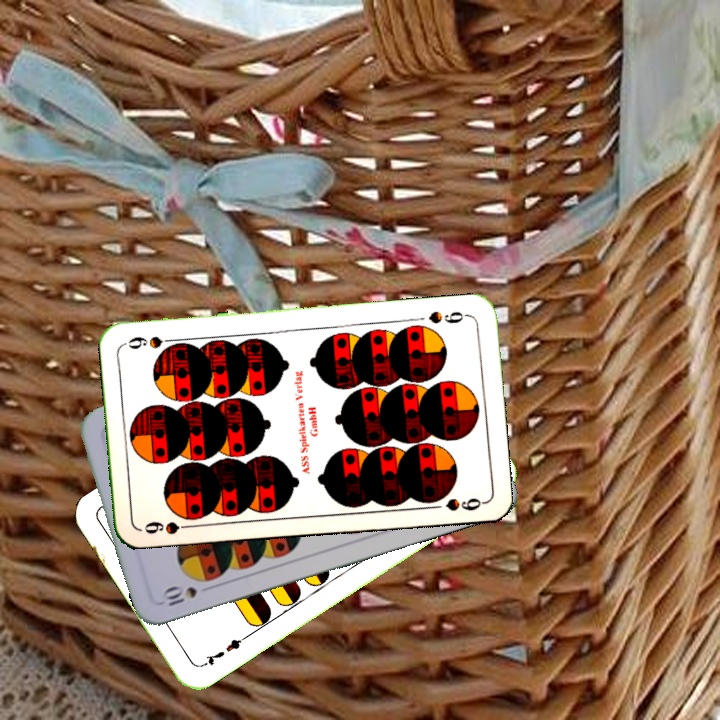E7: (197, 631, 250, 670)
S10: (158, 582, 200, 609)
S9: (138, 509, 197, 537), (425, 307, 472, 326)
